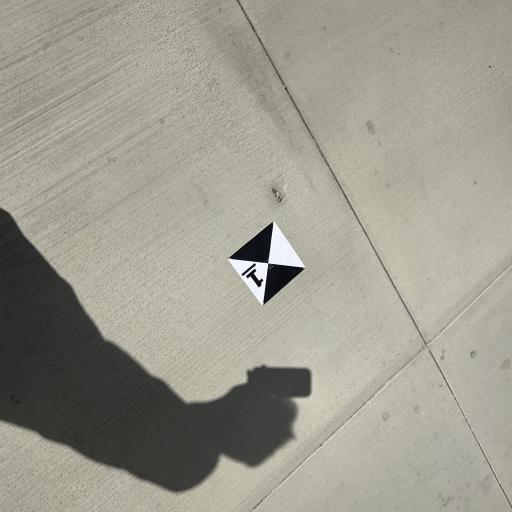target1: (228, 218, 307, 308)
